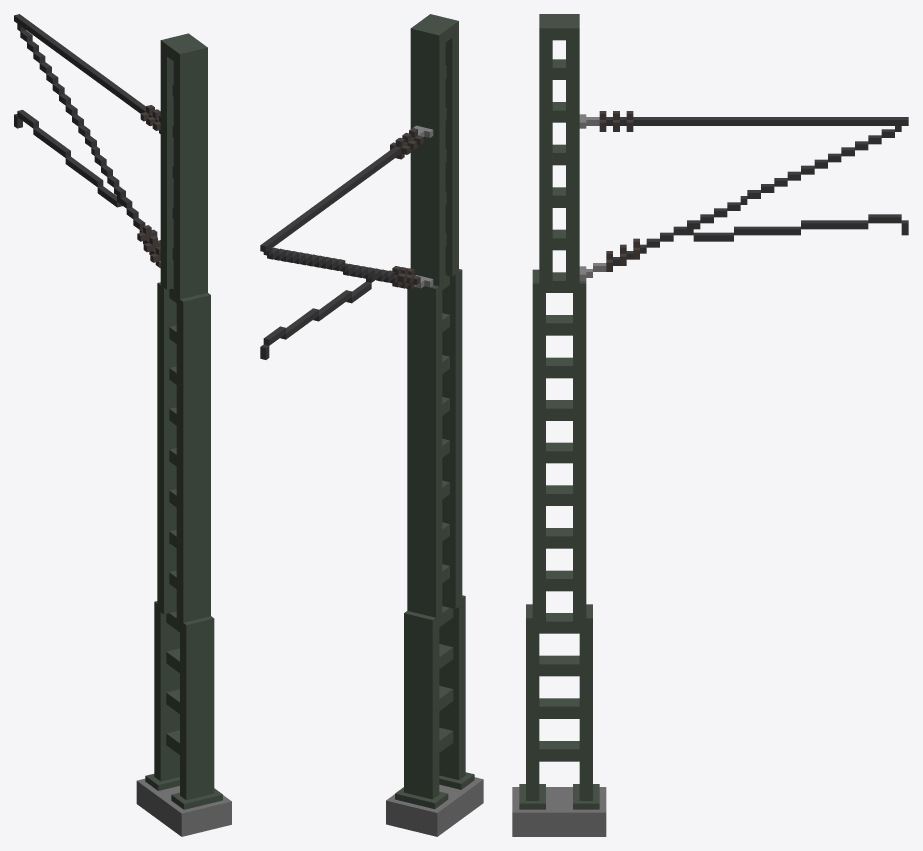
The model's file is catenary-mast.obj.
3 views of the same model, side by side, from view 1: azimuth 30°, elevation 25°; view 2: azimuth 150°, elevation 25°; view 3: azimuth 270°, elevation 25° (orthographic). The views are drawn at different scales.
Visible parts, largest first — view 1: RAIL_BASE; view 2: RAIL_BASE; view 3: RAIL_BASE.
Boxes of the visible parts, left/top/right/bottom form: RAIL_BASE: left=14, top=14, right=231, bottom=836; RAIL_BASE: left=260, top=14, right=483, bottom=836; RAIL_BASE: left=512, top=14, right=908, bottom=836.
Size of the model in its own units: 0.5625 by 8.25 by 3.69.
Materials: 1 (1 with a texture image).
